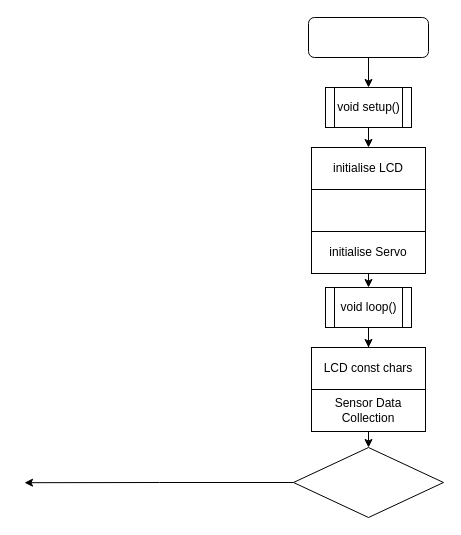
Some shapes in this 461 by 535 pixel diagram are drawn without their labels. Each missing label, with the centre of its shape:
"MainCode" belongs at [368,37].
"set PinModes" belongs at [368,210].
"vibration isDetected?" belongs at [368,482].
